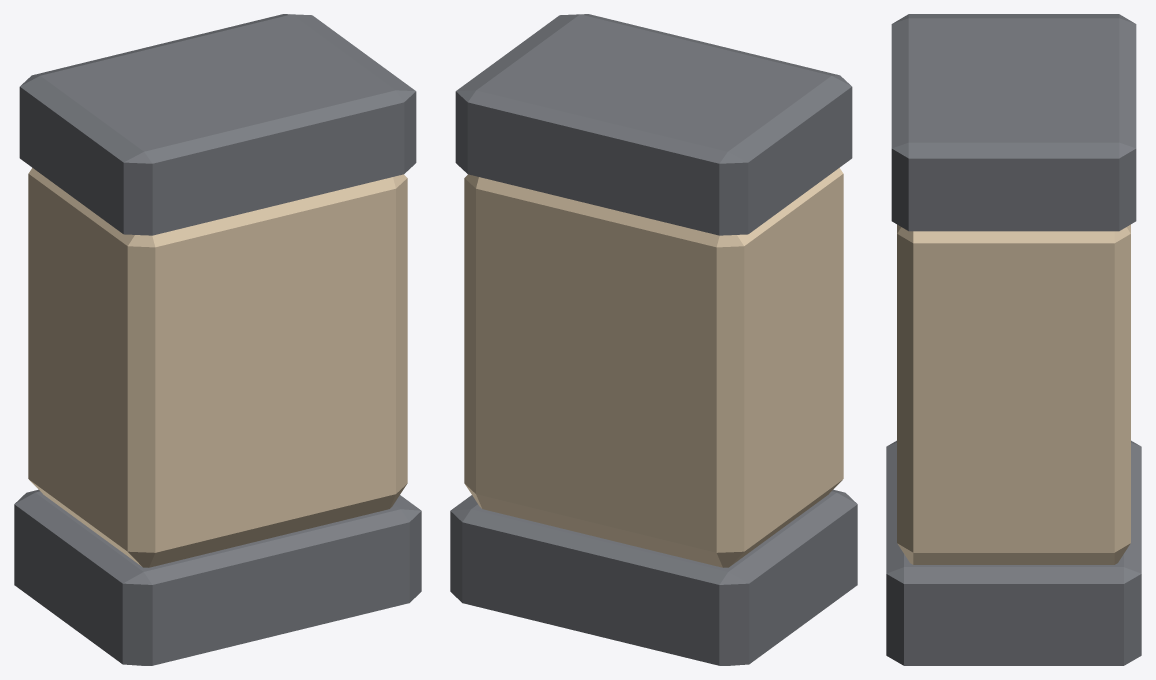
File: b10_pretzel_warmer_cart.glb
3 views of the same model, side by side, from view 1: azimuth 30°, elevation 25°; view 2: azimuth 150°, elevation 25°; view 3: azimuth 270°, elevation 25° (orthographic).
Parts seen in each view (by area): view 1: b10_pretzel_warmer_cart; view 2: b10_pretzel_warmer_cart; view 3: b10_pretzel_warmer_cart.
Boxes of the visible parts, x1,y1,x2,y2 form: b10_pretzel_warmer_cart: (14, 14, 421, 665); b10_pretzel_warmer_cart: (450, 14, 857, 665); b10_pretzel_warmer_cart: (886, 14, 1141, 665).
Size of the model in its own units: 0.91 by 1.49 by 0.665.
